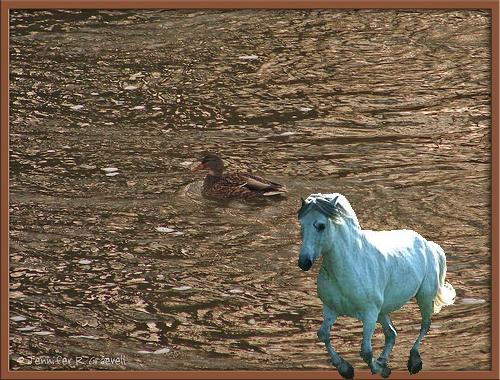tampered: (298, 194, 456, 379)
